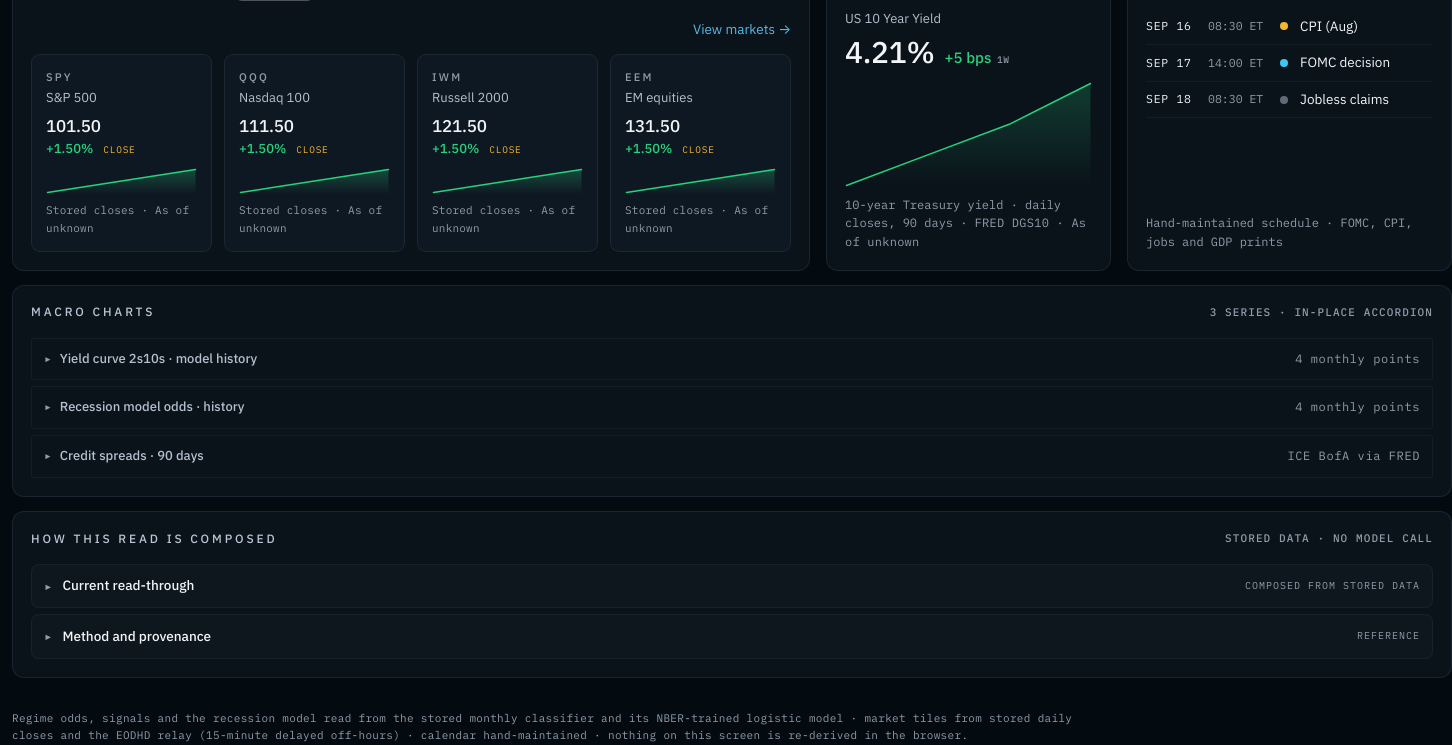
DashboardScreen (checklist 03 E.1) › fix/freshness 7: with the relay's VIX quote the card prints the tape's number and the tape's own stamp, and the read-through reads the same value
(page scrolled)
Expected: the element with id "read-through" is shown, [12,511,1451,678]
Click the button "▸ Current read-through composed from stored data": coordinates (128, 585) [31,564,1433,608]
(page scrolled)
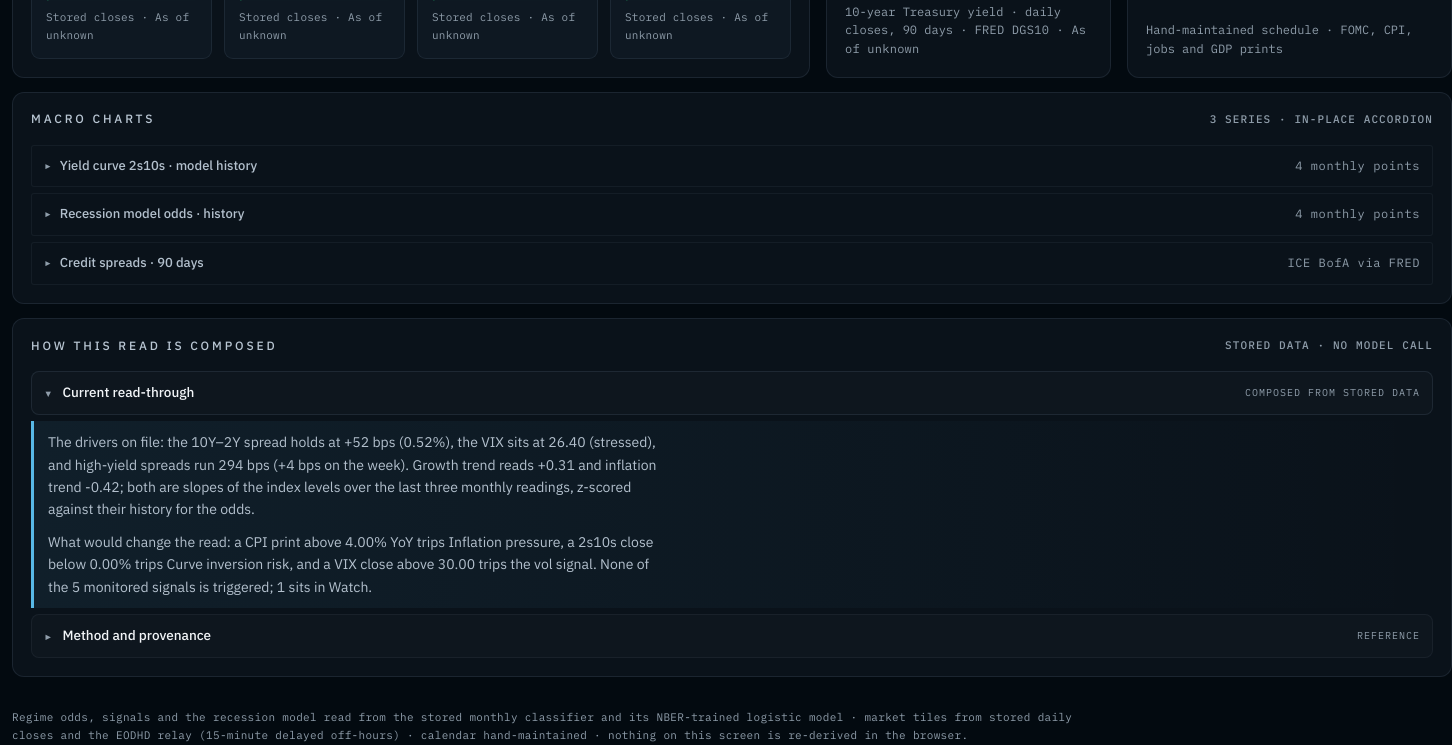
Now the element with id "read-through" shows "the VIX sits at 26.40 (stressed)", box [48,433,656,518]
